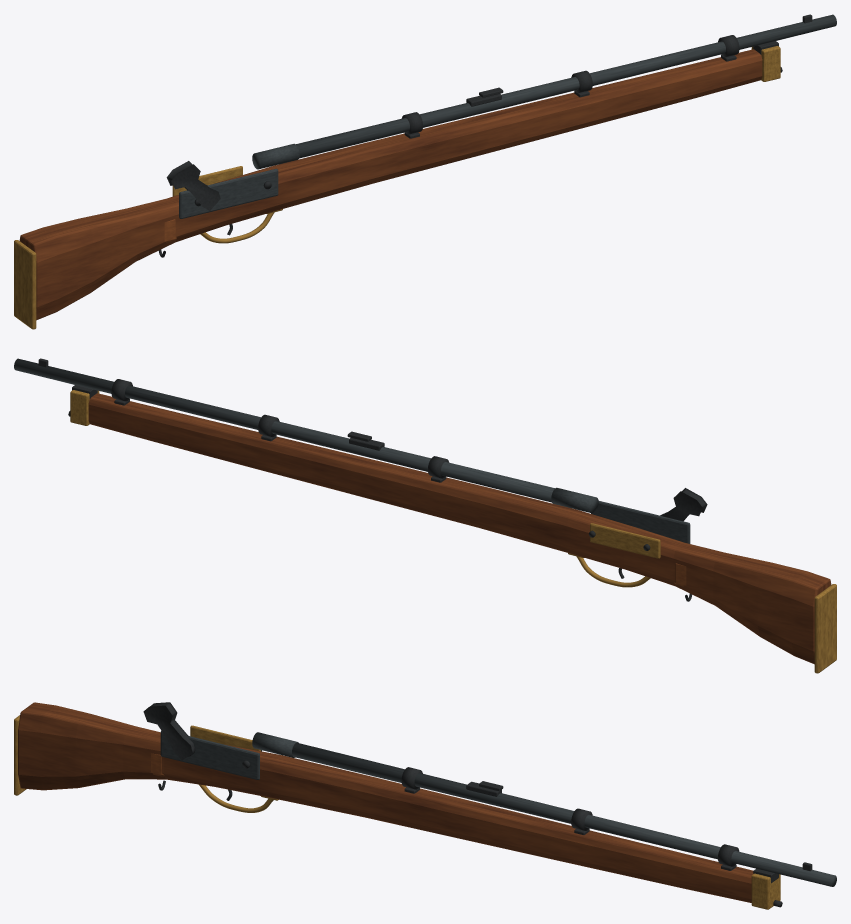
The model's file is weapon_enfield_p53_01.glb.
3 views of the same model, one above another, from view 1: azimuth 30°, elevation 25°; view 2: azimuth 150°, elevation 25°; view 3: azimuth 330°, elevation 25° (orthographic).
Visible parts, largest first — view 1: enfield_stock_walnut, enfield_barrel, enfield_lock_plate, enfield_butt_plate, enfield_hammer, enfield_breech_outer, enfield_nose_cap; view 2: enfield_stock_walnut, enfield_barrel, enfield_butt_plate, enfield_lock_plate, enfield_side_plate, enfield_hammer, enfield_breech_outer, enfield_nose_cap; view 3: enfield_stock_walnut, enfield_barrel, enfield_lock_plate, enfield_hammer, enfield_nose_cap, enfield_side_plate, enfield_breech_outer, enfield_trigger_guard.
Part boxes in pixels (bbox=[...]): enfield_stock_walnut: bbox=[19, 49, 762, 320]; enfield_barrel: bbox=[296, 14, 836, 158]; enfield_lock_plate: bbox=[179, 168, 278, 218]; enfield_butt_plate: bbox=[14, 240, 36, 329]; enfield_hammer: bbox=[166, 161, 220, 210]; enfield_breech_outer: bbox=[252, 143, 299, 169]; enfield_nose_cap: bbox=[751, 46, 780, 81]; enfield_stock_walnut: bbox=[88, 393, 831, 664]; enfield_barrel: bbox=[14, 358, 554, 502]; enfield_butt_plate: bbox=[814, 584, 836, 673]; enfield_lock_plate: bbox=[591, 501, 690, 543]; enfield_side_plate: bbox=[590, 523, 660, 558]; enfield_hammer: bbox=[660, 488, 707, 521]; enfield_breech_outer: bbox=[551, 487, 598, 513]; enfield_nose_cap: bbox=[70, 390, 99, 425]; enfield_stock_walnut: bbox=[18, 702, 753, 902]; enfield_barrel: bbox=[292, 742, 836, 886]; enfield_lock_plate: bbox=[160, 730, 259, 779]; enfield_hammer: bbox=[143, 702, 193, 760]; enfield_nose_cap: bbox=[751, 873, 780, 909]; enfield_side_plate: bbox=[190, 725, 260, 751]; enfield_breech_outer: bbox=[252, 732, 298, 757]; enfield_trigger_guard: bbox=[198, 784, 273, 812].
Bounding box in the file's own units: 1.41 × 0.2181 × 0.075.
Materials: 5 (5 with a texture image).
